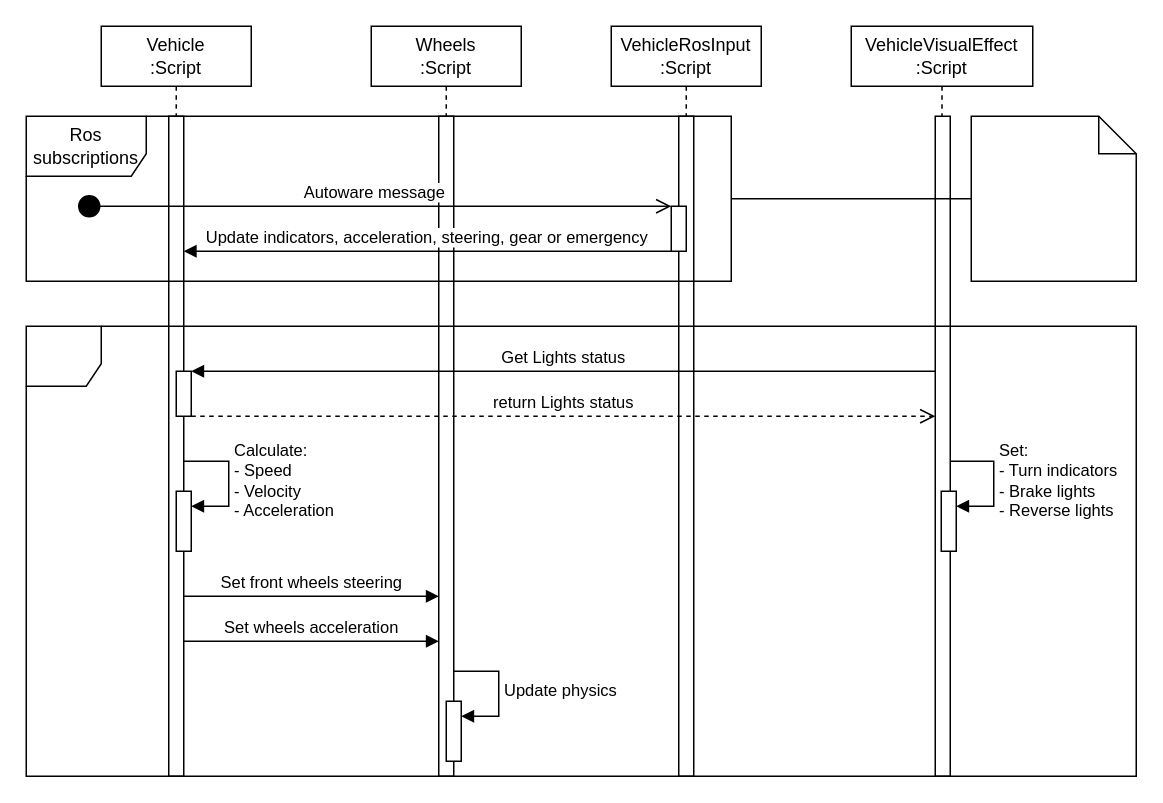
Some shapes in this 1163 by 803 pixel diagram are drawn without their labels. Each missing label, with the box of its shape:
Ros subscriptions are invoked asynchronously and concurrently to update loop: (970, 115, 1136, 281)
update loop: (25, 325, 1136, 776)
